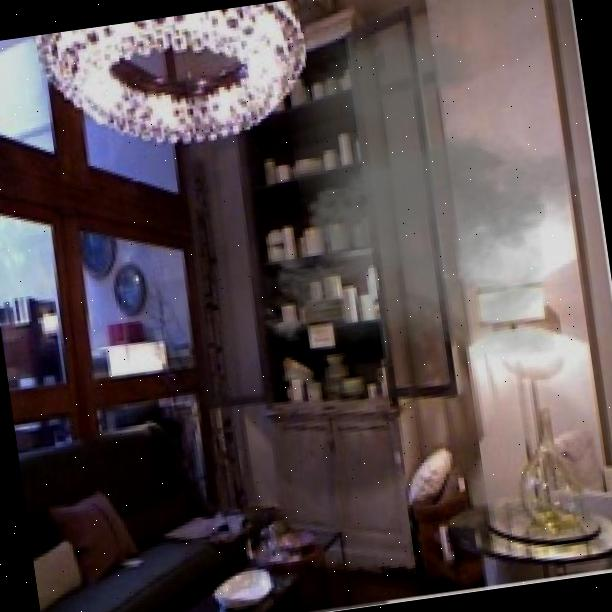smoke: (213, 0, 612, 393)
